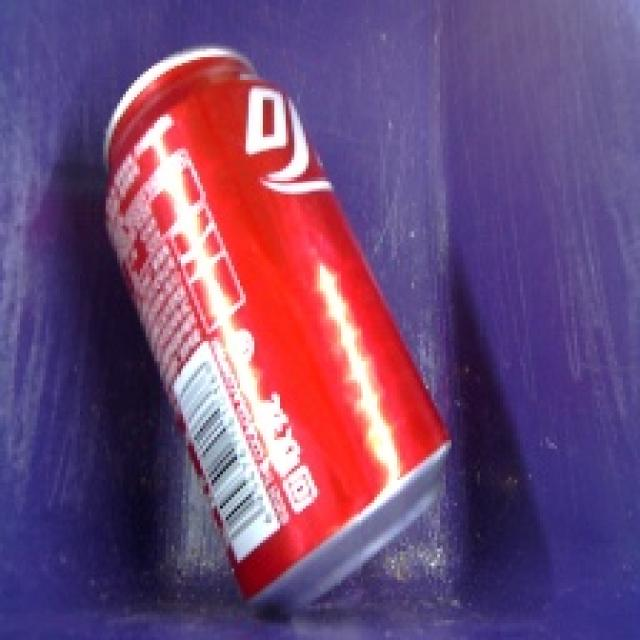metal: (84, 42, 498, 630)
